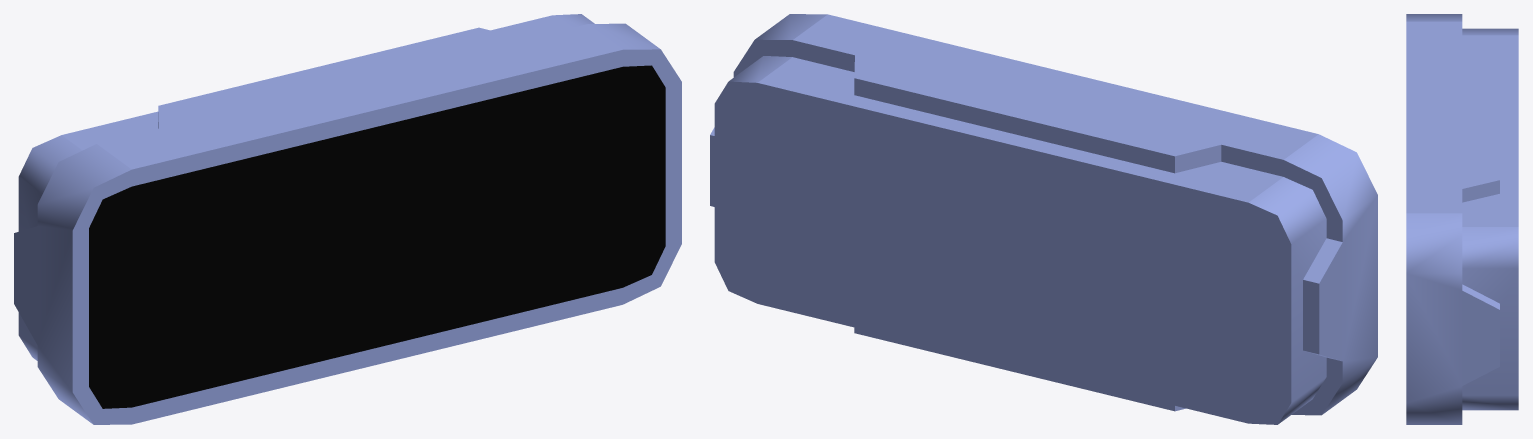
File: rfs_lcd_large_lod1.fbx
The picture shows the model from 3 angles, left to right: view 1: azimuth 30°, elevation 25°; view 2: azimuth 150°, elevation 25°; view 3: azimuth 270°, elevation 25°; orthographic projection. The views are drawn at different scales.
Parts seen in each view (by area): view 1: obj_interactive_textsign_large_lod1; view 2: obj_interactive_textsign_large_lod1; view 3: obj_interactive_textsign_large_lod1.
Boxes of the visible parts, <box> form: obj_interactive_textsign_large_lod1: <box>14,14,681,424</box>; obj_interactive_textsign_large_lod1: <box>710,14,1377,424</box>; obj_interactive_textsign_large_lod1: <box>1406,14,1518,424</box>.
Bounding box in the file's own units: 5 × 2 × 1.
